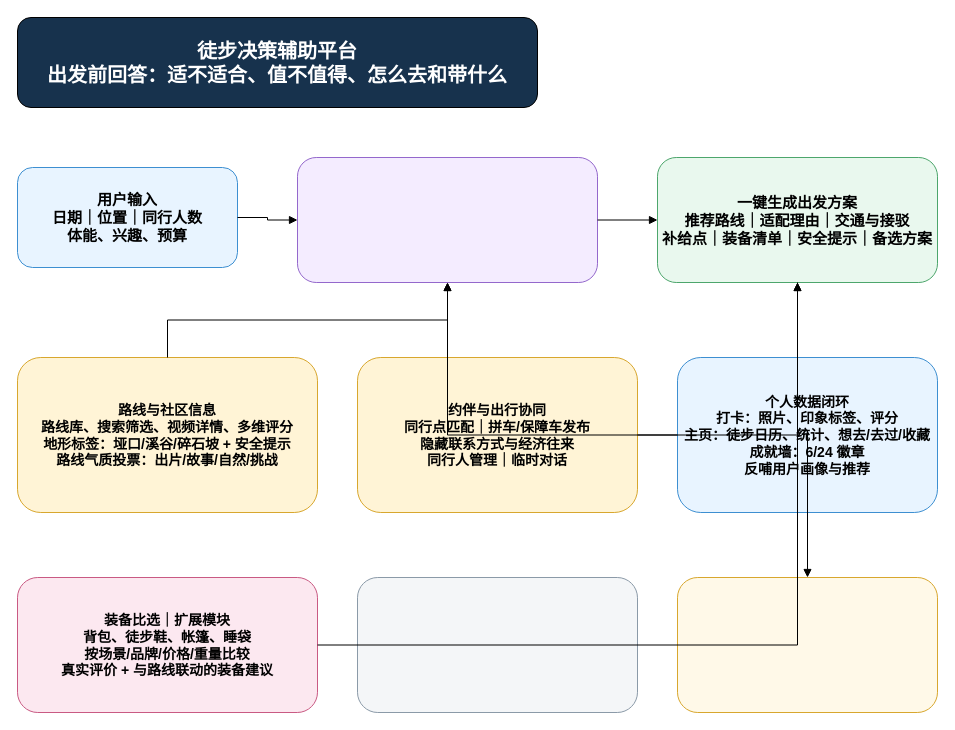
This 955x730 diagram has some shape labels left out. The shapes that lost their labels are listed below. From the top down, each one's centre as x and y in pixels, then its label:
At (447,219): "智能线路推荐｜核心主链路 天气 API + 地图 MCP + 用户历史数据 路线匹配排序：难度、天气、偏好、风险".
At (497,644): "基础能力 登录/注册、品牌页、首页天气推荐 消息系统、收藏分享、内容审核".
At (807,644): "产品价值：把“想去徒步”转化为“今天就能安全出发”".
